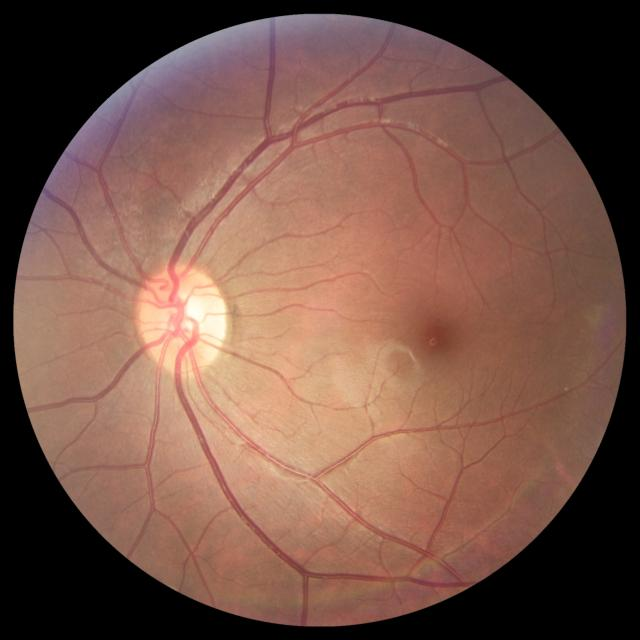OC: (164, 293, 207, 341)
OD: (138, 264, 228, 372)
